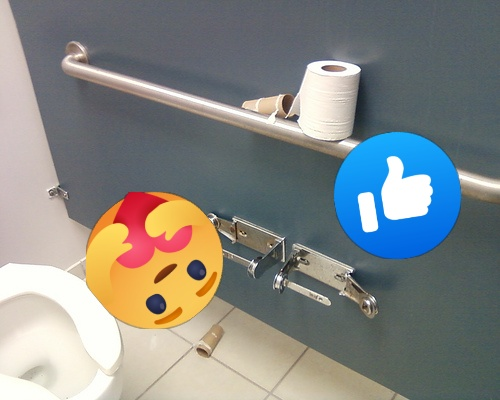care: (86, 192, 223, 329)
like: (334, 132, 461, 259)
